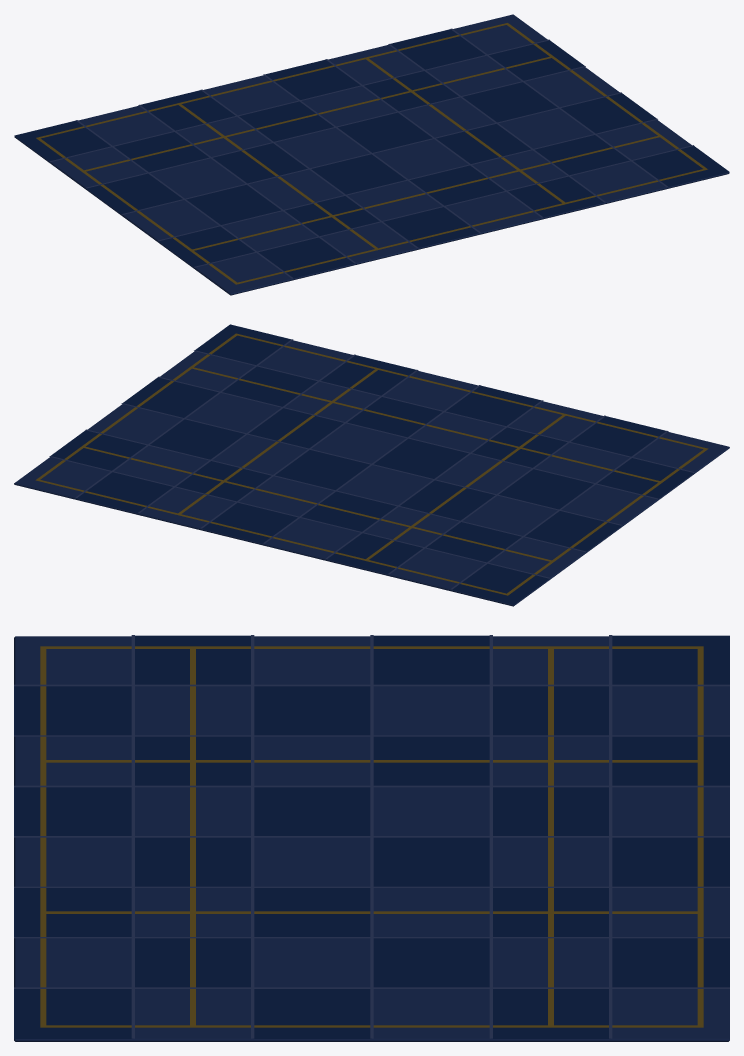
3 renders of one model, top to bottom at view 1: azimuth 30°, elevation 25°; view 2: azimuth 150°, elevation 25°; view 3: azimuth 270°, elevation 25°, orthographic. The views are drawn at different scales.
Parts seen in each view (by area): view 1: furniture_12_rug_rare_tartan; view 2: furniture_12_rug_rare_tartan; view 3: furniture_12_rug_rare_tartan.
Part boxes in pixels (bbox=[...]): furniture_12_rug_rare_tartan: bbox=[14, 14, 729, 295]; furniture_12_rug_rare_tartan: bbox=[14, 324, 729, 606]; furniture_12_rug_rare_tartan: bbox=[14, 635, 729, 1041].
Size of the model in its own units: 8 by 0.036 by 6.
